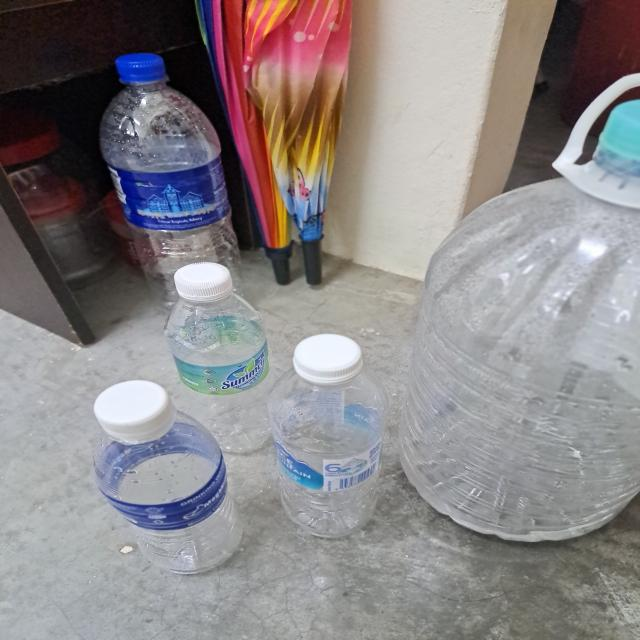plastic bottle: (400, 158, 640, 542), (97, 81, 242, 308), (94, 410, 243, 577), (272, 364, 386, 538), (166, 291, 276, 454)
plastic bottle cap: (94, 379, 175, 437), (293, 333, 364, 381), (597, 98, 640, 165), (175, 262, 234, 300), (115, 53, 166, 82)
